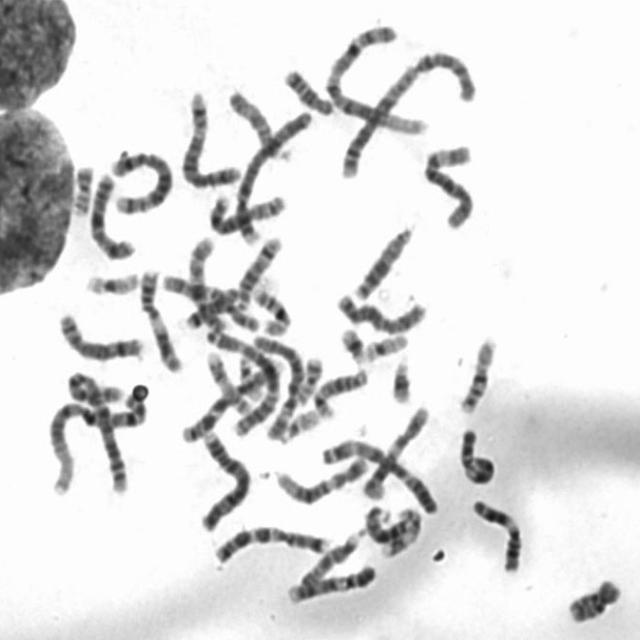A1: (41, 375, 153, 498), (319, 17, 432, 136)
A2: (334, 43, 479, 180), (62, 369, 138, 496)
A3: (316, 430, 441, 516), (200, 323, 282, 435)
B4: (226, 100, 316, 246), (193, 422, 254, 532)
B5: (174, 82, 244, 189), (105, 142, 176, 215)
C10: (156, 265, 262, 334), (183, 231, 229, 332)
C11: (133, 261, 186, 375), (466, 491, 526, 575)
C12: (358, 398, 433, 501), (269, 450, 372, 506)
C6: (250, 327, 310, 443), (416, 135, 478, 231)
C7: (176, 350, 285, 445), (207, 518, 333, 564)
C8: (53, 304, 148, 364), (203, 184, 289, 236)
C9: (280, 555, 380, 605), (453, 426, 502, 486)
D13: (348, 218, 418, 302), (359, 502, 416, 544)
D14: (230, 228, 284, 312), (307, 360, 372, 420)
D15: (284, 520, 366, 606), (222, 80, 294, 164)
E16: (454, 328, 501, 416), (247, 278, 294, 336)
E17: (201, 345, 253, 416), (378, 499, 425, 559)
E18: (278, 60, 338, 117), (182, 280, 242, 330)
F19: (79, 262, 144, 297), (357, 325, 411, 363)
F20: (291, 349, 326, 405), (67, 156, 96, 218)
G21: (334, 319, 370, 366), (386, 350, 416, 405)
G22: (276, 400, 321, 444), (238, 358, 268, 404)
X: (84, 165, 138, 261), (330, 285, 430, 335)
